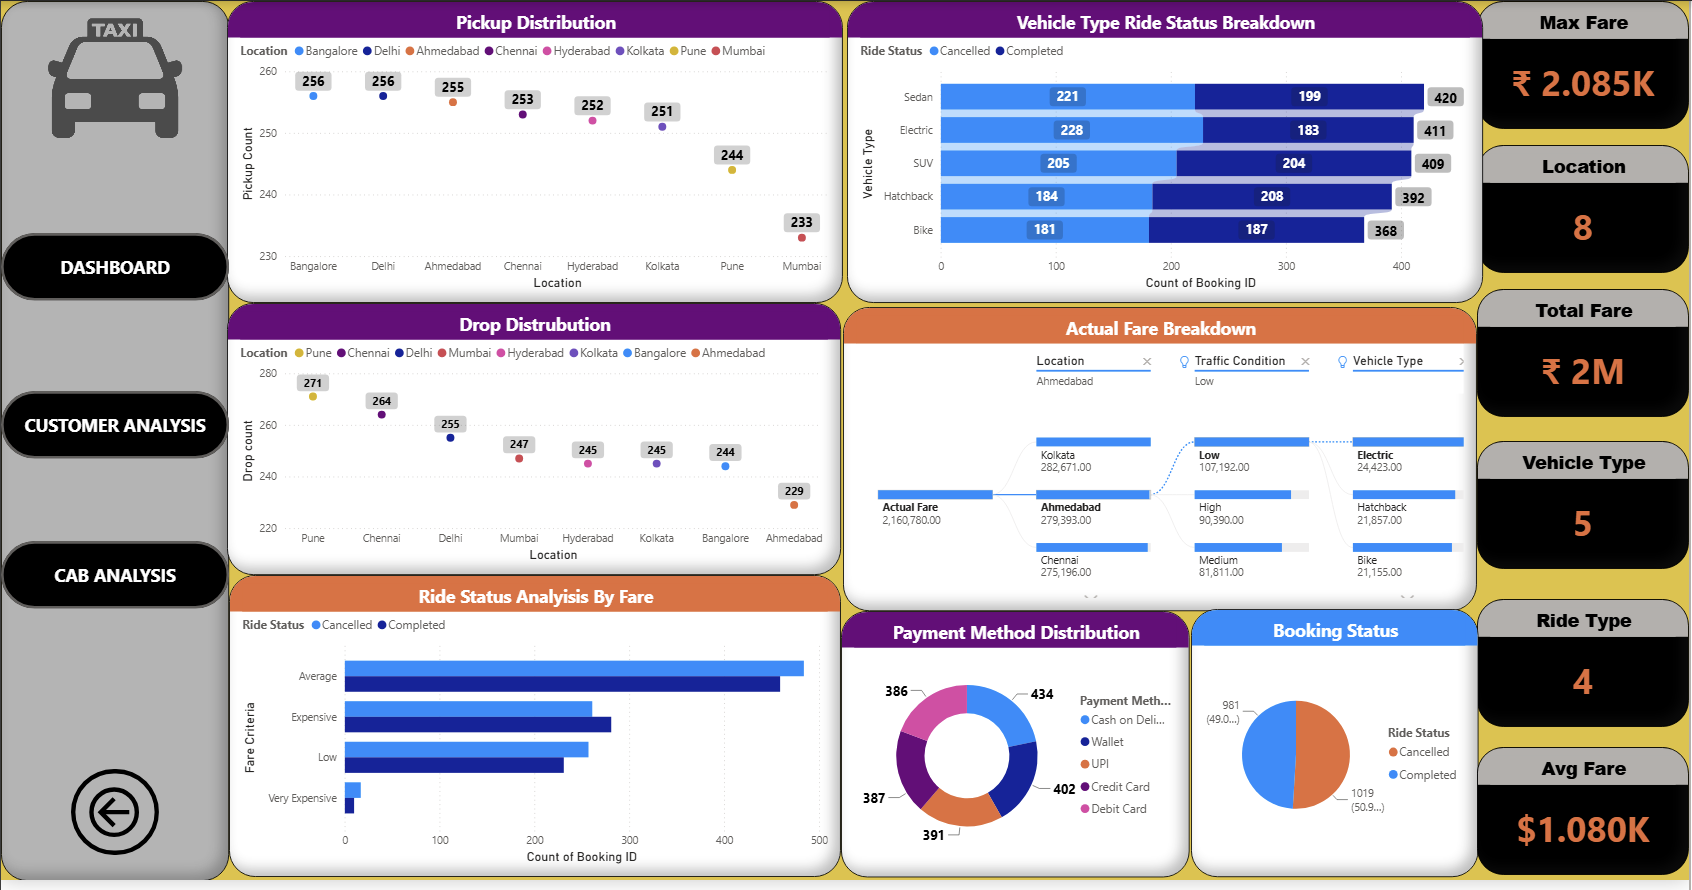

The dashboard page shown, as its layout file describes it:
{"tool":"powerbi","page":{"name":"DASHBOARD","canvas":[1920,1000],"ordinal":1},"visuals":[{"type":"textbox","box":[0,0,259.3,1000.9],"z":0},{"type":"cardVisual","title":"Location","fields":{"Data":["CountNonNull(LOCATION DIMENSION.Location)"]},"box":[1678.9,163.8,241.1,145.6],"z":1000},{"type":"cardVisual","title":"Total Fare","fields":{"Data":["Sum(FACT TABLE.Actual Fare)"]},"box":[1678.9,327.6,241.1,145.6],"z":2000},{"type":"cardVisual","title":"Vehicle Type","fields":{"Data":["CountNonNull(VEHICLE DIMENSION.Vehicle Type)"]},"box":[1678.9,500.5,241.1,145.6],"z":3000},{"type":"cardVisual","title":"Ride Type","fields":{"Data":["Count(RIDE DIMENSION.Ride Type)"]},"box":[1678.9,680.2,241.1,145.6],"z":4000},{"type":"decompositionTreeVisual","title":"Actual Fare Breakdown","fields":{"Analyze":["Sum(FACT TABLE.Actual Fare)"],"ExplainBy":["LOCATION DIMENSION.Location","TRAFFIC DIMENSION.Traffic Condition","VEHICLE DIMENSION.Vehicle Type"]},"box":[957.7,348.1,721.1,345.8],"z":5000},{"type":"pieChart","title":"Booking Status","fields":{"Category":["RIDE STATUS DIMENSION.Ride Status"],"Y":["Count(FACT TABLE.Booking ID)"]},"box":[1352.9,692.1,326.8,305.2],"z":6000},{"type":"lineChart","title":"Pickup Distribution","fields":{"Category":["LOCATION DIMENSION.Location"],"Y":["CountNonNull(FACT TABLE.Pickup ID)"],"Series":["LOCATION DIMENSION.Location"]},"box":[257.1,0,700.7,343.5],"z":7000},{"type":"lineChart","title":"Drop Distrubution","fields":{"Category":["LOCATION DIMENSION.Location"],"Series":["LOCATION DIMENSION.Location"],"Y":["FACT TABLE.Drop count"]},"box":[257.1,343.5,698.4,309.4],"z":8000},{"type":"actionButton","box":[0,264.3,259.5,76.9],"z":9000},{"type":"actionButton","box":[0,444.6,259.5,76.9],"z":10000},{"type":"actionButton","box":[0,615.2,259.5,76.9],"z":11000},{"type":"donutChart","title":"Payment Method Distribution","fields":{"Category":["PAYMENT DIMENSION.Payment Method"],"Y":["CountNonNull(FACT TABLE.Customer ID)"]},"box":[956.4,694.5,396.5,302.8],"z":12000},{"type":"cardVisual","title":"Avg Fare","fields":{"Data":["FACT TABLE.Avg Fare"]},"box":[1678.9,848.5,241.1,145.6],"z":13000},{"type":"cardVisual","title":"Max Fare","fields":{"Data":["FACT TABLE.Maximum Fare"]},"box":[1678.9,0,241.1,145.6],"z":14000},{"type":"clusteredBarChart","title":"Ride Status Analyisis By Fare","fields":{"Category":["FACT TABLE.Fare Criteria"],"Series":["RIDE STATUS DIMENSION.Ride Status"],"Y":["CountNonNull(FACT TABLE.Booking ID)"]},"box":[259.3,652.9,696.1,343.5],"z":15000},{"type":"image","box":[0,11.4,259.3,152.4],"z":16000},{"type":"barChart","title":"Vehicle Type Ride Status Breakdown","fields":{"Category":["VEHICLE DIMENSION.Vehicle Type"],"Series":["RIDE STATUS DIMENSION.Ride Status"],"Y":["CountNonNull(FACT TABLE.Booking ID)"]},"box":[961.2,0,723.3,343.6],"z":17000},{"type":"actionButton","box":[79.6,873.6,100.1,97.8],"z":18000}]}

Visuals, with their boxes in screenshot pixels (x1, y1, x2, y2), scaled from the page's 1920x1000 canvas onto the 1692x890 screenshot:
textbox: detection(0, 0, 229, 889)
"Location" cardVisual: detection(1480, 146, 1691, 275)
"Total Fare" cardVisual: detection(1480, 292, 1691, 421)
"Vehicle Type" cardVisual: detection(1480, 445, 1691, 575)
"Ride Type" cardVisual: detection(1480, 605, 1691, 735)
"Actual Fare Breakdown" decompositionTreeVisual: detection(844, 310, 1479, 618)
"Booking Status" pieChart: detection(1192, 616, 1480, 888)
"Pickup Distribution" lineChart: detection(227, 0, 844, 306)
"Drop Distrubution" lineChart: detection(227, 306, 842, 581)
actionButton: detection(0, 235, 229, 304)
actionButton: detection(0, 396, 229, 464)
actionButton: detection(0, 548, 229, 616)
"Payment Method Distribution" donutChart: detection(843, 618, 1192, 888)
"Avg Fare" cardVisual: detection(1480, 755, 1691, 885)
"Max Fare" cardVisual: detection(1480, 0, 1691, 130)
"Ride Status Analyisis By Fare" clusteredBarChart: detection(229, 581, 842, 887)
image: detection(0, 10, 229, 146)
"Vehicle Type Ride Status Breakdown" barChart: detection(847, 0, 1484, 306)
actionButton: detection(70, 778, 158, 865)
